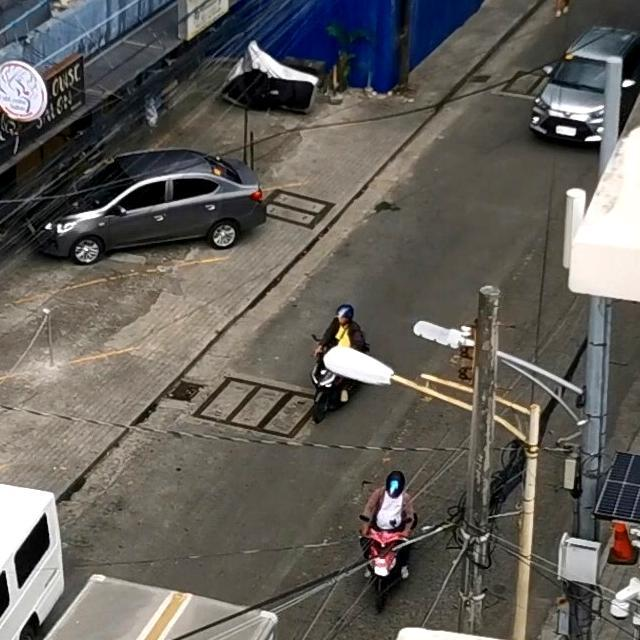Motorcycle: (358, 510, 416, 613), (316, 305, 370, 405)
